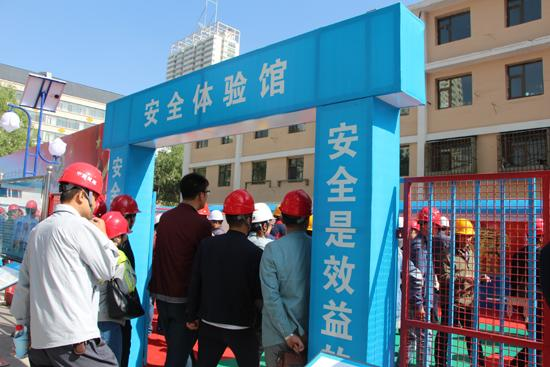helmet: (58, 162, 105, 195), (280, 189, 315, 218), (223, 190, 259, 217), (102, 211, 134, 238), (419, 206, 445, 231), (111, 195, 144, 214), (252, 203, 276, 224), (454, 219, 477, 237), (527, 218, 546, 238), (208, 211, 225, 223), (199, 203, 212, 217), (410, 219, 422, 234), (273, 203, 283, 221), (440, 216, 451, 228), (26, 201, 39, 211), (9, 204, 22, 212), (1, 207, 7, 215)
